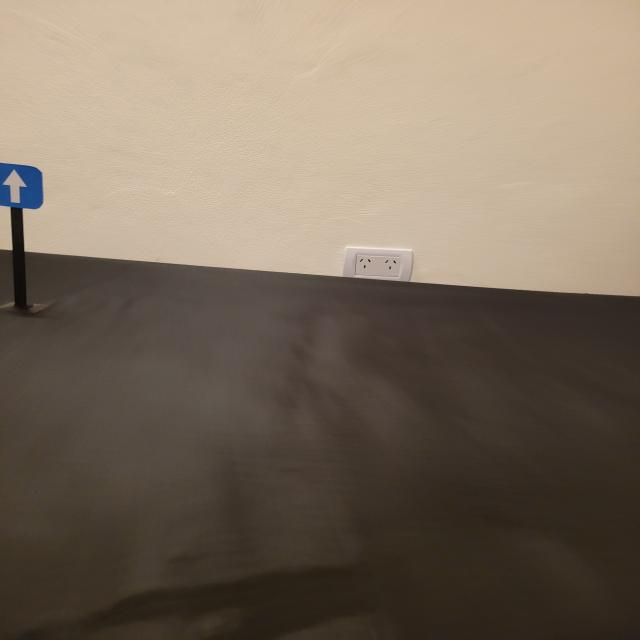one_way: (0, 162, 43, 210)
